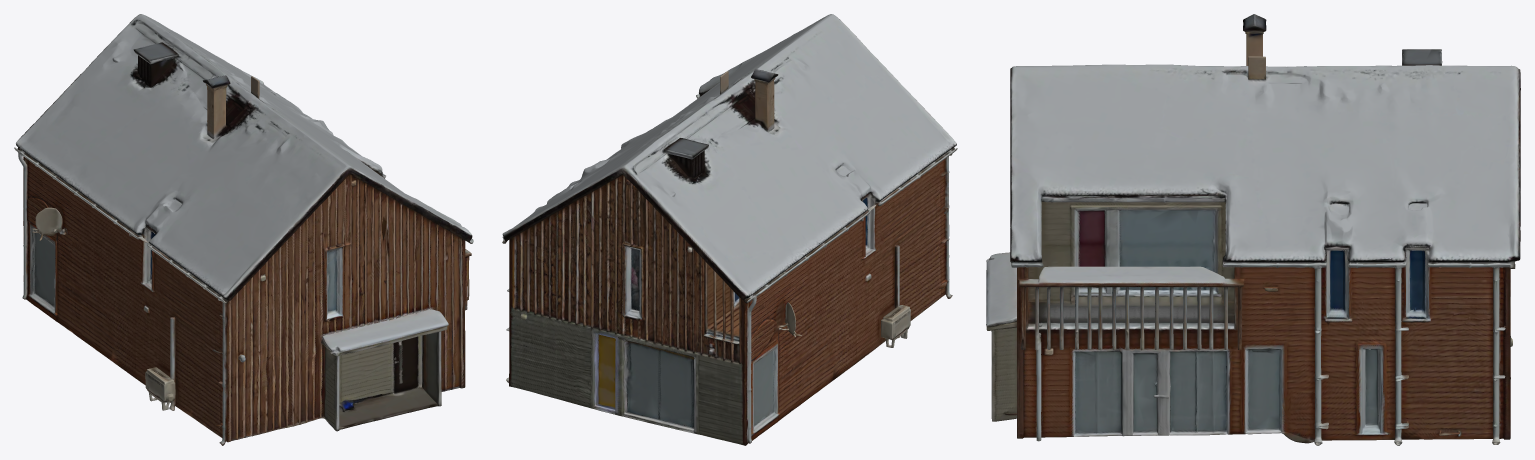
The model's file is building.glb.
3 views of the same model, side by side, from view 1: azimuth 30°, elevation 25°; view 2: azimuth 150°, elevation 25°; view 3: azimuth 270°, elevation 25° (orthographic). The views are drawn at different scales.
Visible parts, largest first — view 1: tripo_node_1e15a46b-018a-424a-87b8-f482f3b3d9db; view 2: tripo_node_1e15a46b-018a-424a-87b8-f482f3b3d9db; view 3: tripo_node_1e15a46b-018a-424a-87b8-f482f3b3d9db.
Boxes of the visible parts, box(x1,y1,x2,y2) form: tripo_node_1e15a46b-018a-424a-87b8-f482f3b3d9db: box(14, 14, 473, 445); tripo_node_1e15a46b-018a-424a-87b8-f482f3b3d9db: box(502, 14, 957, 445); tripo_node_1e15a46b-018a-424a-87b8-f482f3b3d9db: box(986, 14, 1520, 445).
Size of the model in its own units: 0.6925 by 0.693 by 1.
Materials: 1 (1 with a texture image).
